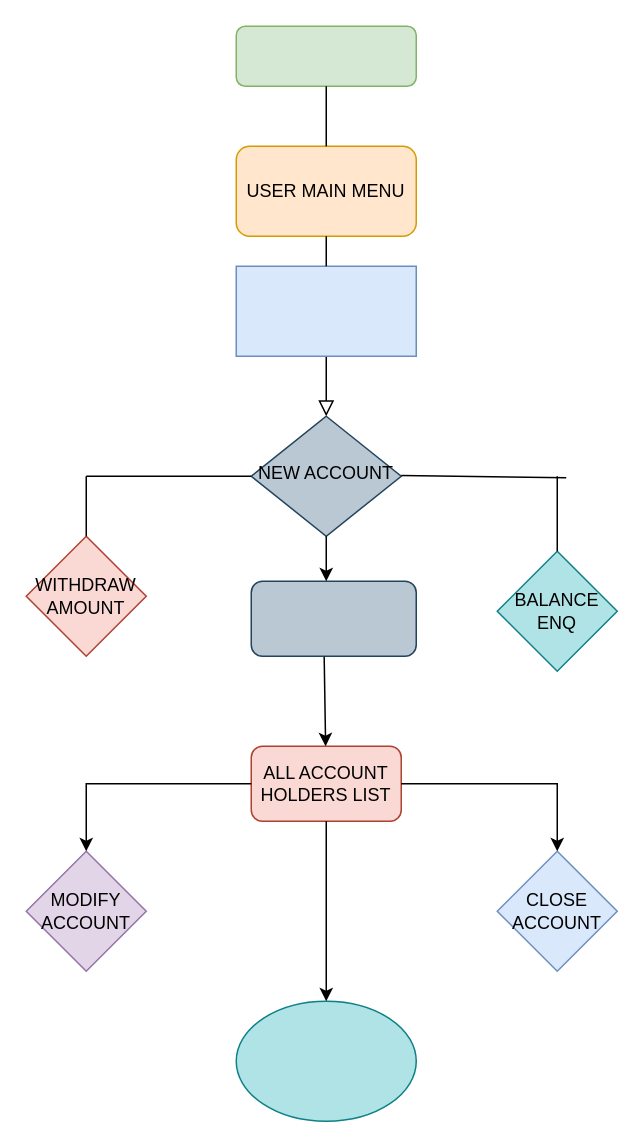
The diagram is 644 pixels wide and 1148 high, and some of its shapes have lost their labels. The centre of each missing label's shape, as x and y in pixels:
"DEPOSIT AMOUNT" belongs at point (333, 618).
"EXIT" belongs at point (325, 1060).
"SELECT ANY OPTION" belongs at point (325, 310).
"START" belongs at point (325, 55).
